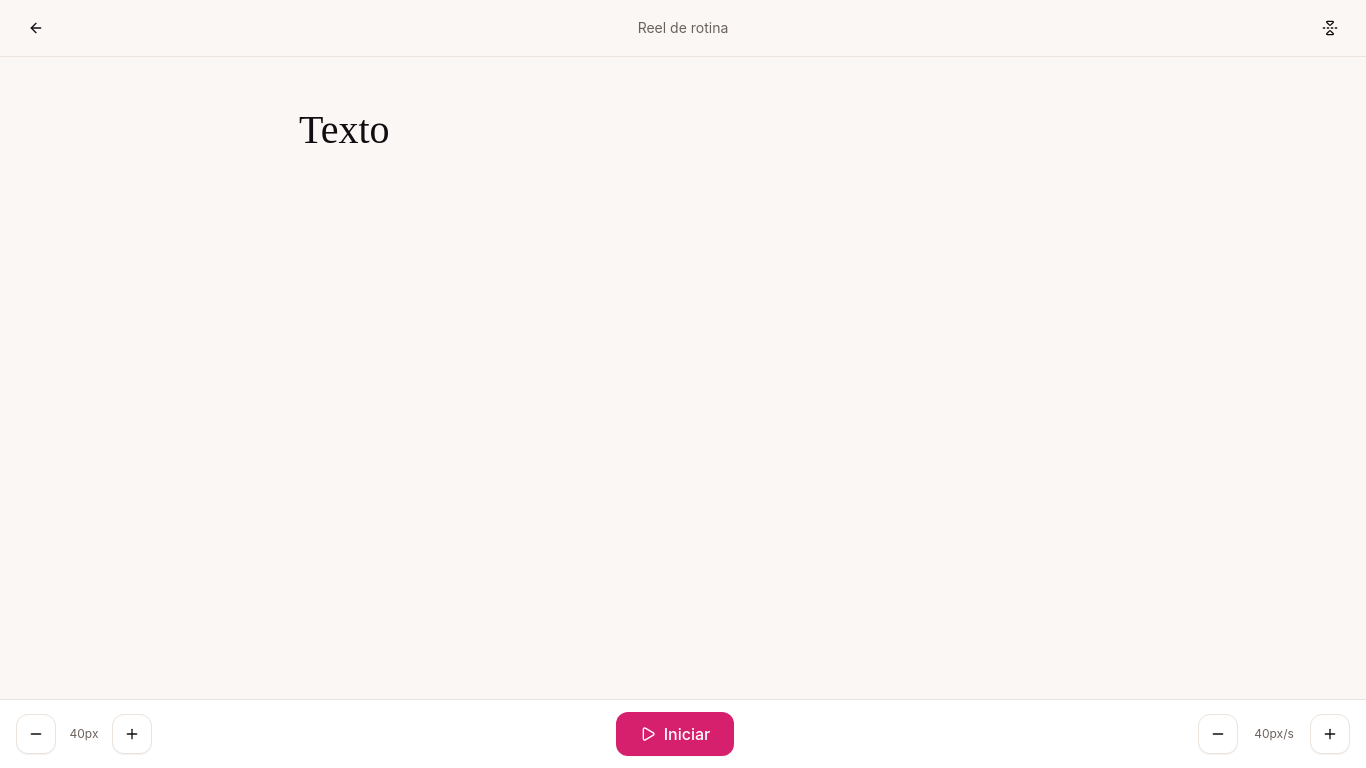
Test case: TeleprompterView › ajusta a fonte com os botões de aumentar/diminuir, respeitando os limites configurados
The width and height of the screenshot is (1366, 768).
Expected: the text "40px" is shown, [70, 726, 98, 741]
Click the button named "Aumentar fonte".
click(132, 734)  # box [112, 714, 152, 754]
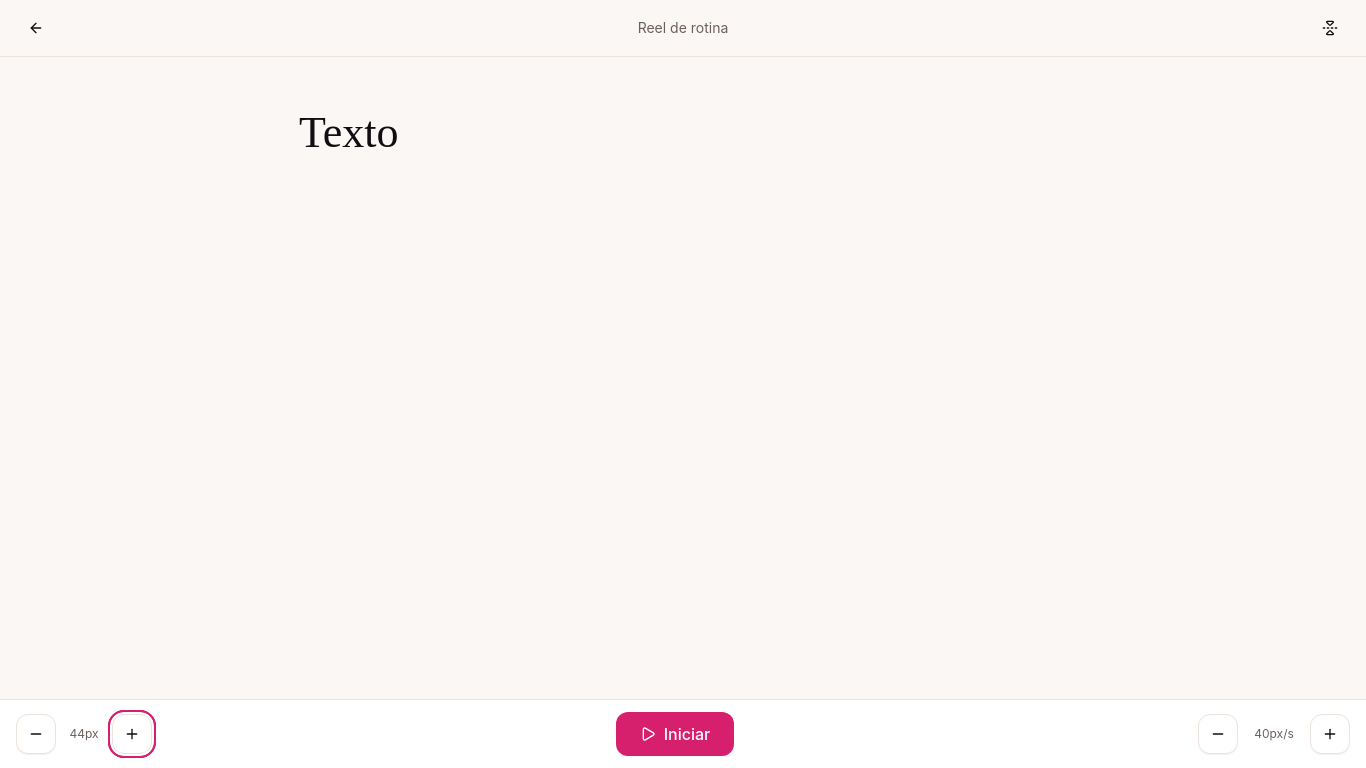
Click the button named "Diminuir fonte".
click(36, 734)  # box [16, 714, 56, 754]
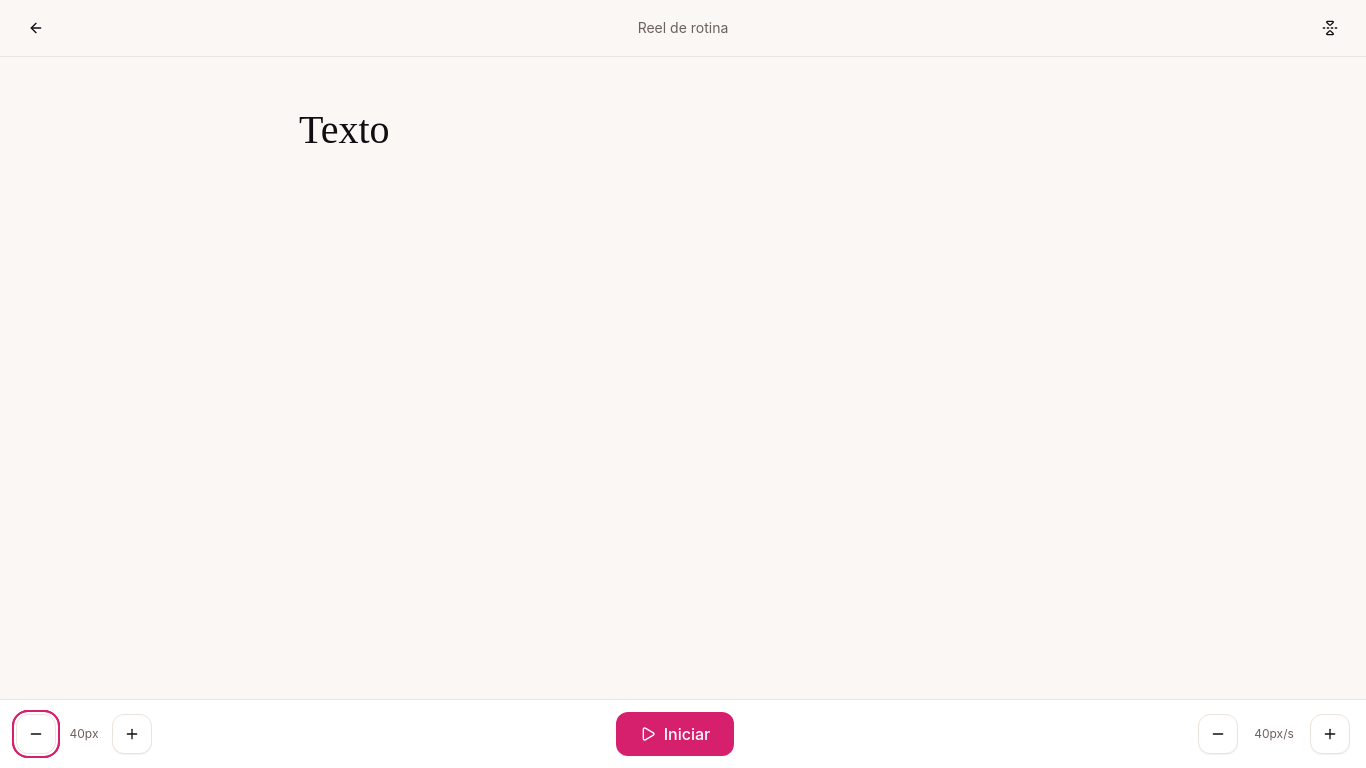
Now the text "40px" is shown, box [70, 726, 98, 741]
